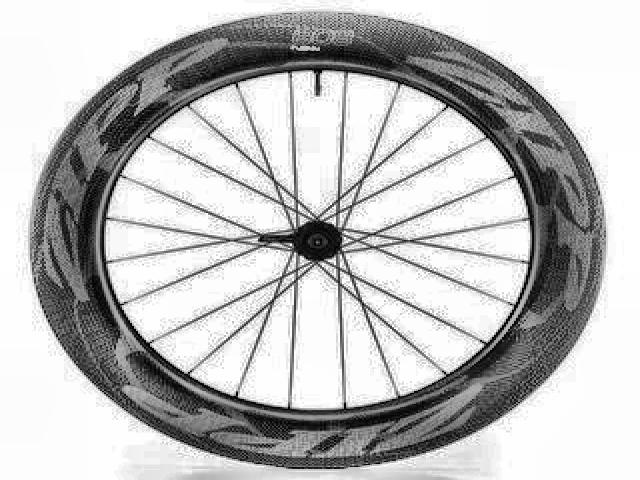wheel: (26, 8, 610, 472)
